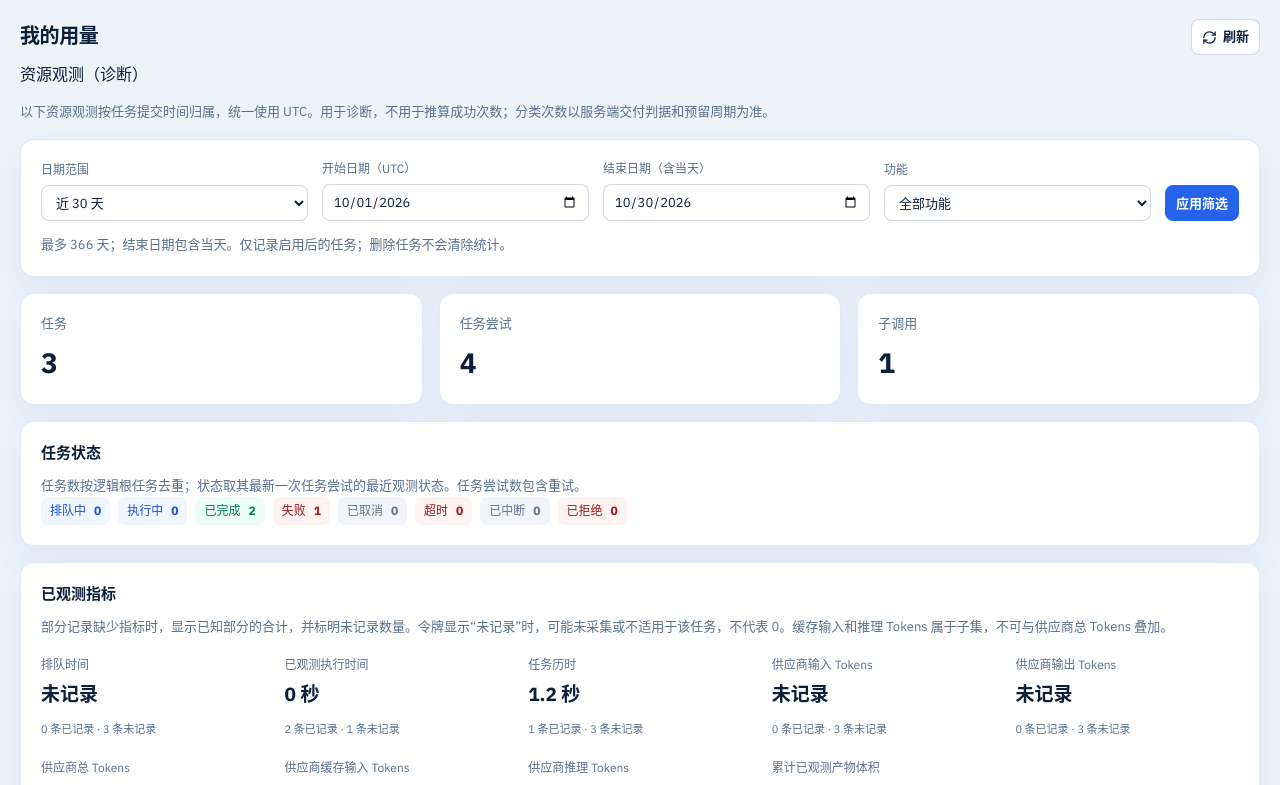
personal usage page › rejects date spans exceeding366 days without another request
Expected: the heading "已观测指标" is shown, [41,584,116,603]
Type "2024-01-01" into the date field labelled "开始日期（UTC）" at (456, 203), box [322,184,589,221]
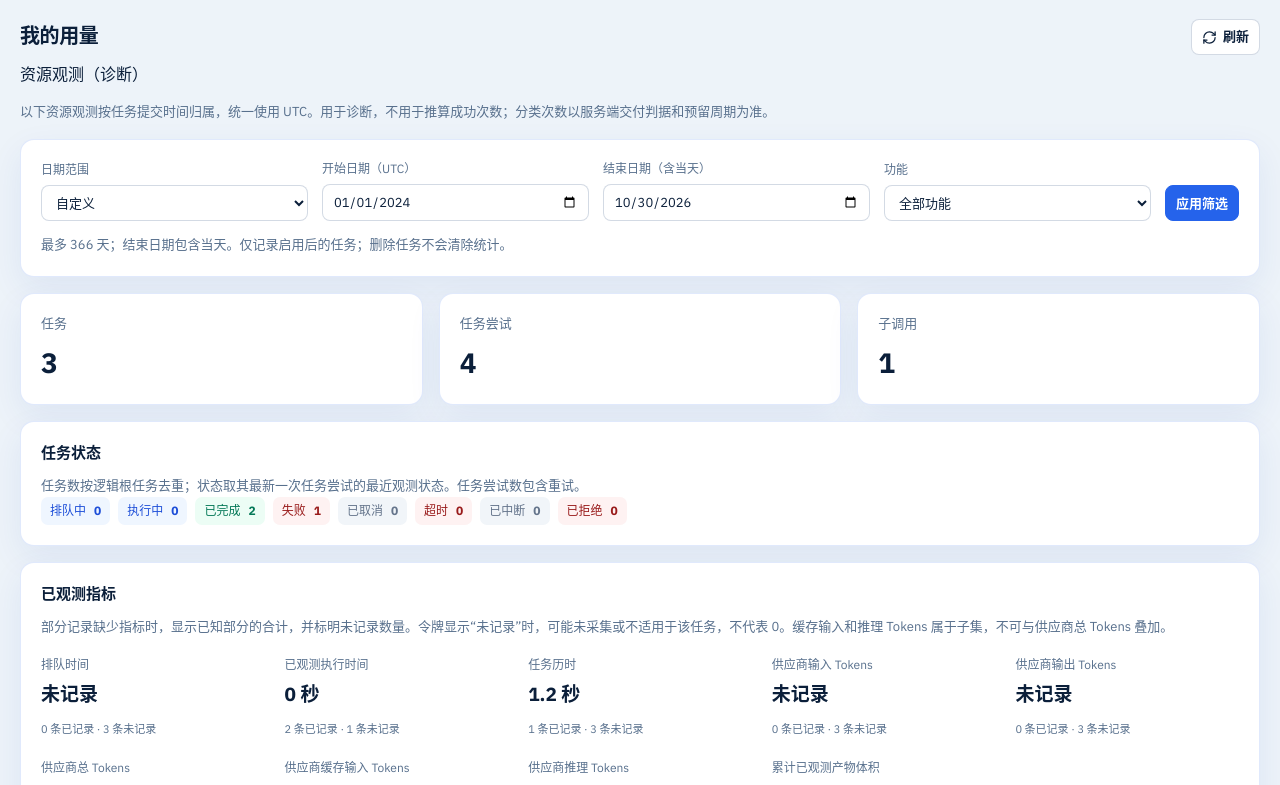
Type "2025-01-01" into the date field labelled "结束日期（含当天）" at (736, 203), box [603,184,870,221]
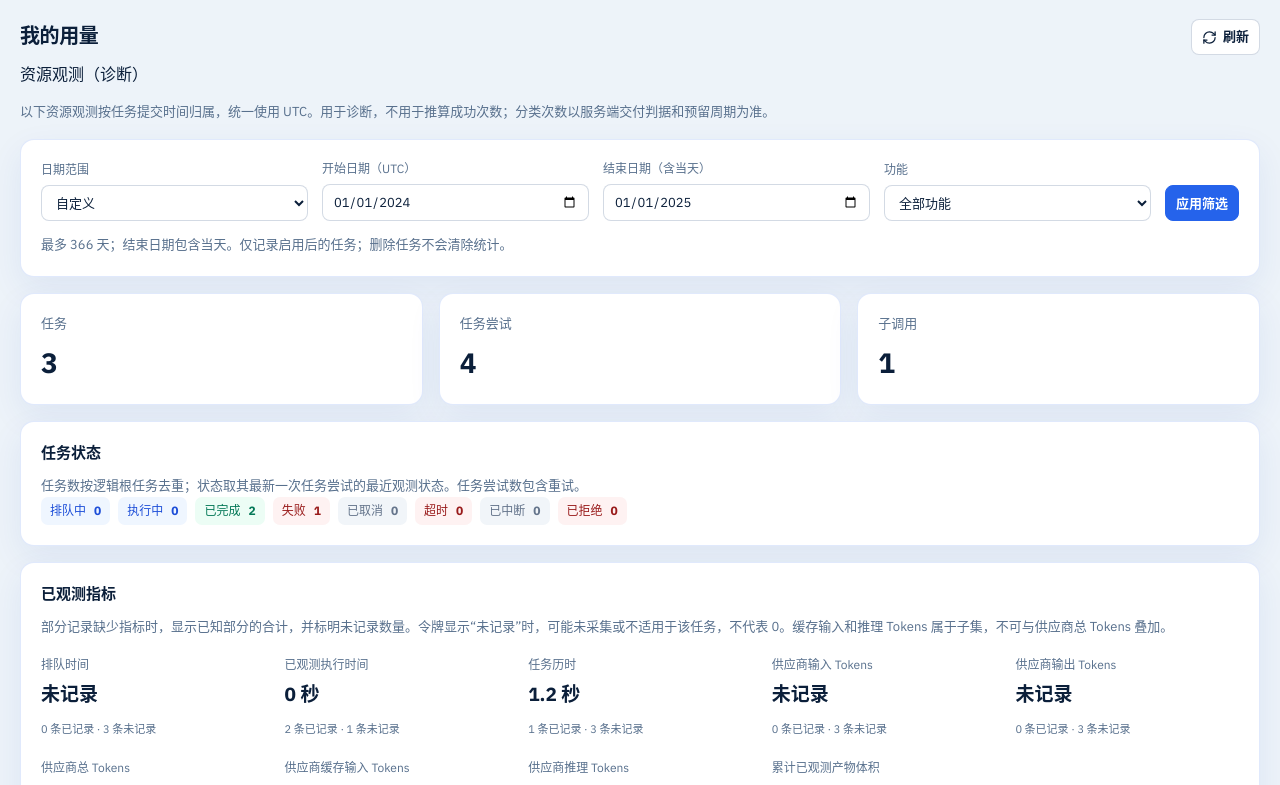
Click the button "应用筛选" at (1202, 203), box [1165,185,1239,221]
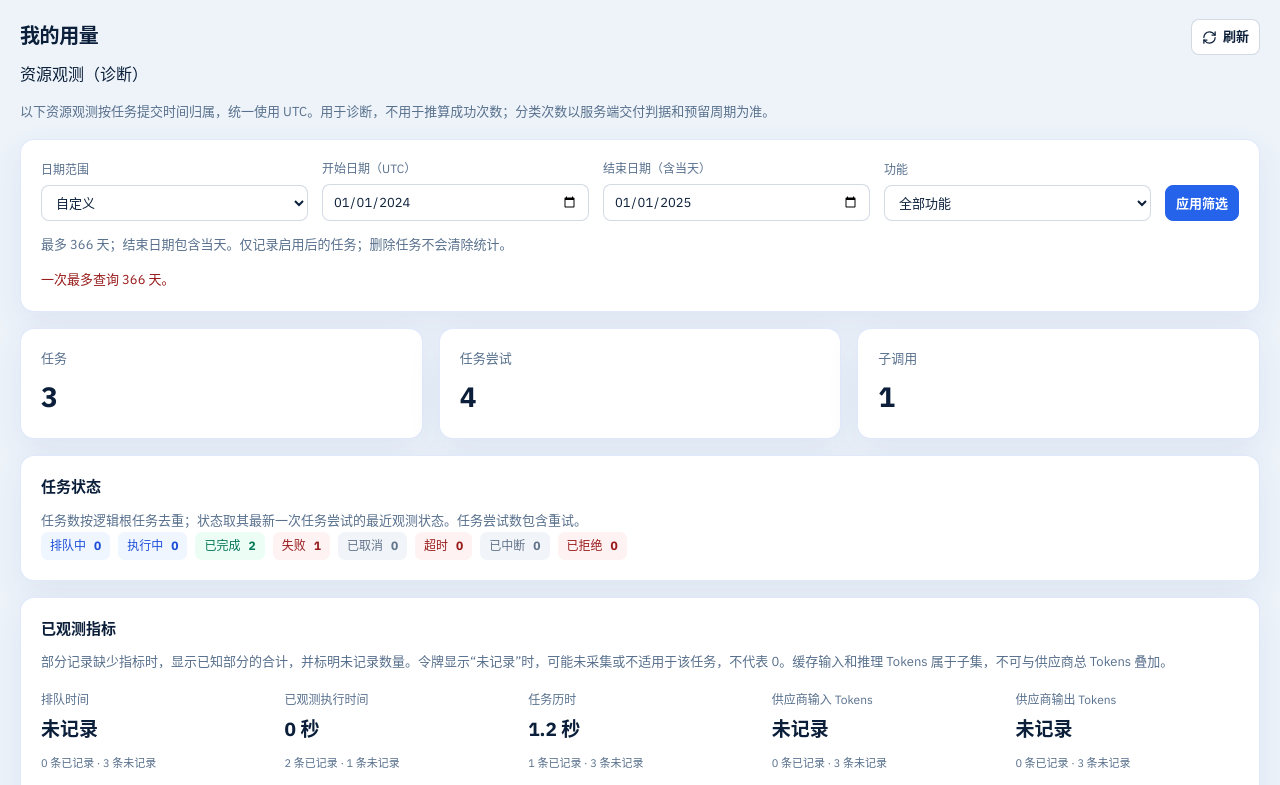
Now the message shows "366", box [41,271,174,288]
